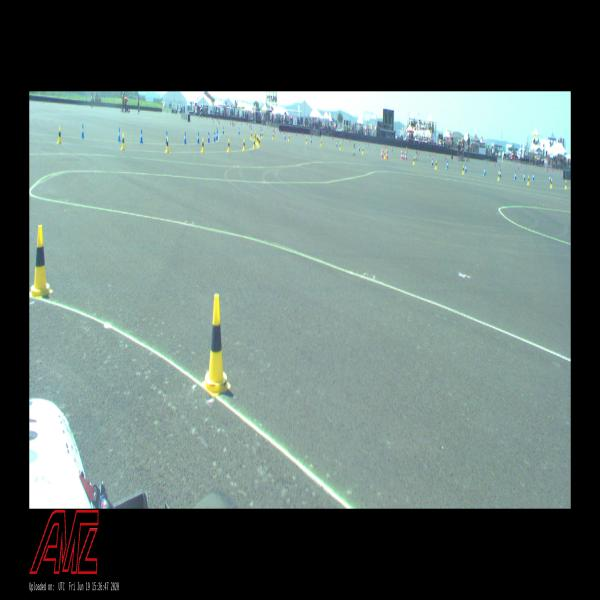blue_cone: (81, 125, 85, 138), (140, 130, 143, 143), (197, 132, 200, 144), (184, 132, 187, 144), (446, 160, 449, 170), (118, 128, 120, 141), (483, 167, 486, 175), (464, 164, 467, 172), (208, 132, 210, 143), (532, 173, 535, 180), (214, 132, 216, 142), (216, 130, 218, 140), (216, 127, 218, 136), (499, 170, 501, 178), (431, 158, 433, 166), (402, 152, 404, 160), (514, 172, 516, 179), (238, 128, 240, 135), (523, 173, 525, 180), (549, 175, 551, 182), (336, 140, 338, 147), (166, 132, 167, 144), (284, 134, 286, 140), (223, 126, 224, 134), (359, 145, 360, 151), (311, 137, 312, 143), (260, 130, 261, 136)
large_orange_cone: (400, 148, 403, 159), (386, 147, 388, 158), (405, 150, 407, 160), (382, 146, 383, 158)
yellow_cone: (202, 294, 231, 397), (30, 225, 53, 298), (57, 126, 62, 144), (121, 133, 125, 149), (165, 137, 169, 153), (201, 138, 205, 153), (227, 139, 230, 151), (497, 171, 500, 181), (243, 139, 245, 151), (257, 136, 259, 146), (256, 134, 258, 144), (435, 160, 437, 170), (413, 156, 415, 165), (550, 179, 552, 188), (564, 180, 566, 188), (527, 176, 529, 184), (462, 166, 464, 174), (253, 140, 255, 148), (384, 150, 386, 158), (254, 134, 256, 142), (272, 132, 274, 140), (362, 147, 364, 154), (261, 132, 263, 138), (288, 135, 290, 141), (259, 138, 260, 148), (251, 132, 252, 140), (321, 139, 322, 146), (255, 132, 256, 139), (306, 137, 307, 143), (340, 143, 341, 149)
